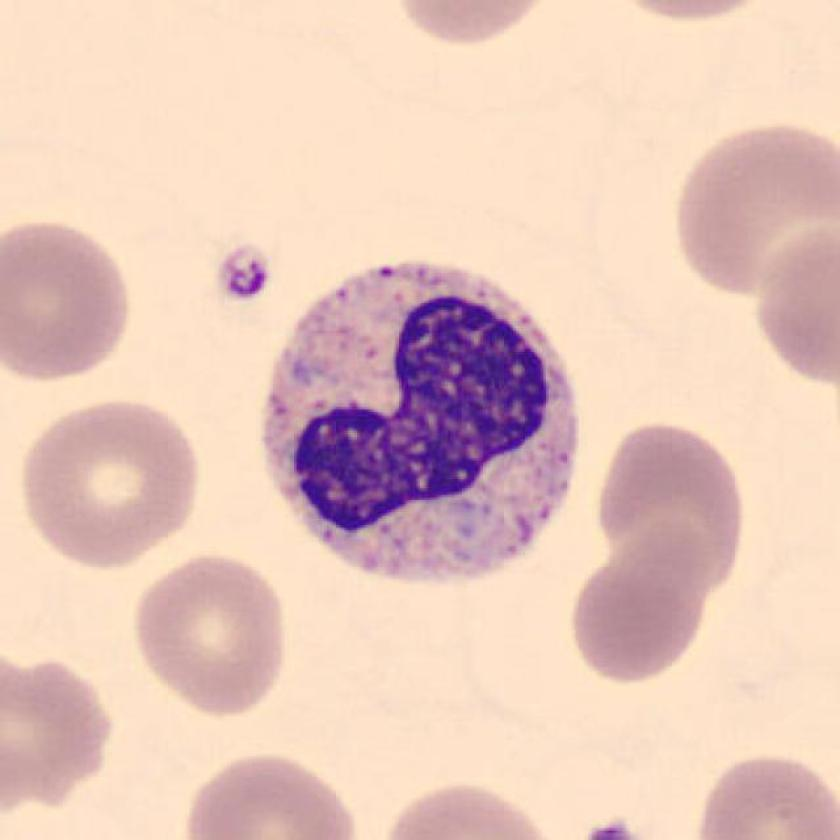neutrophil: (266, 260, 577, 581)
